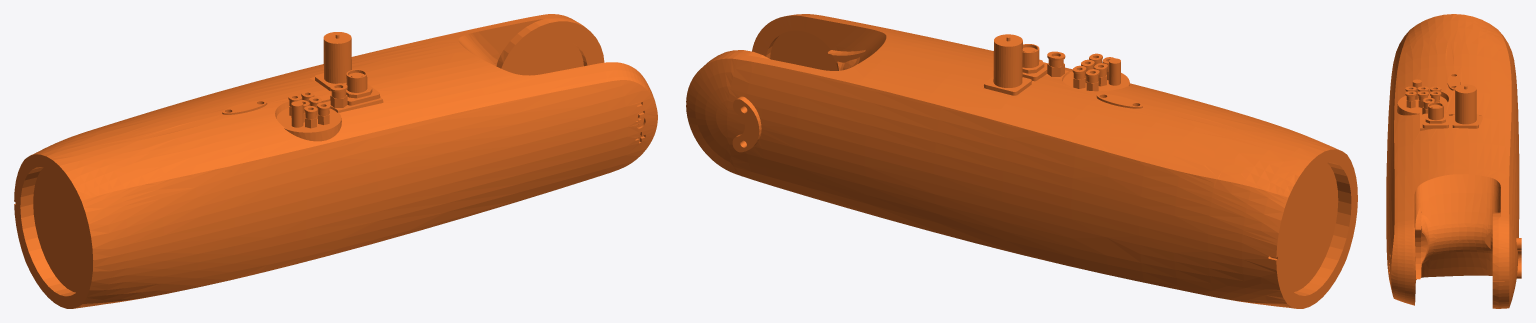
The model's file is arm2.dae.
3 views of the same model, side by side, from view 1: azimuth 30°, elevation 25°; view 2: azimuth 150°, elevation 25°; view 3: azimuth 270°, elevation 25° (orthographic). The views are drawn at different scales.
Parts seen in each view (by area): view 1: link_4; view 2: link_4; view 3: link_4.
Boxes of the visible parts, box(x1,y1,x2,y2) form: link_4: box(14, 14, 657, 308); link_4: box(686, 14, 1357, 308); link_4: box(1386, 14, 1521, 308).
Size of the model in its own units: 4.51 by 1.19 by 1.44.
